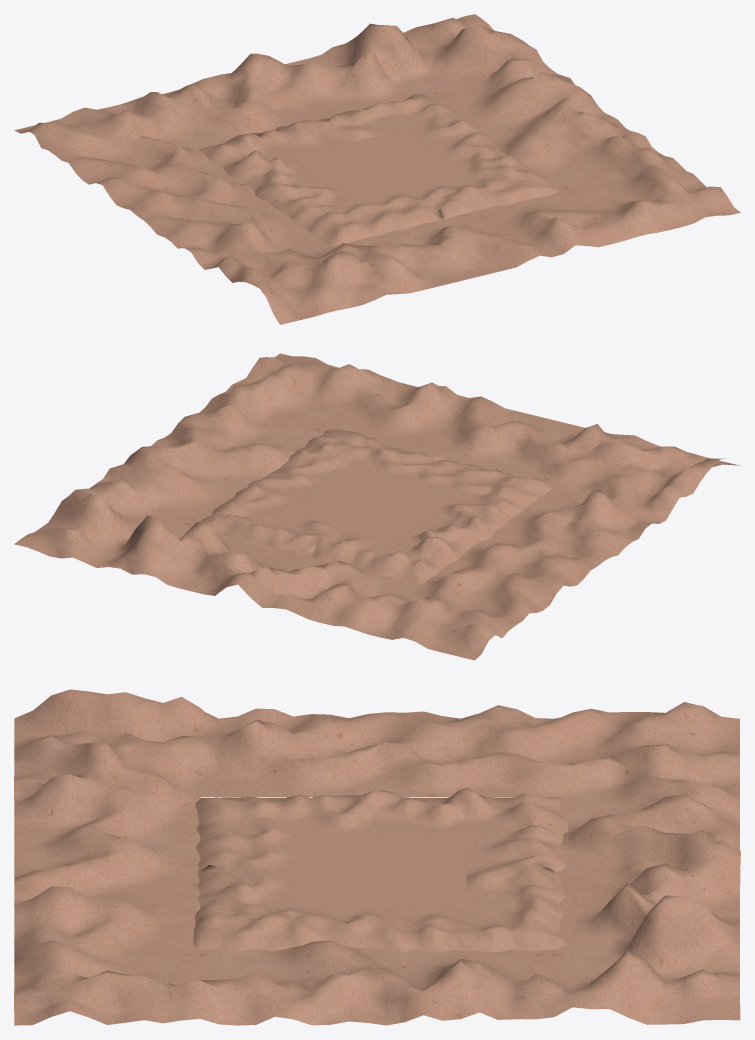
File: desert2.glb
3 views of the same model, one above another, from view 1: azimuth 30°, elevation 25°; view 2: azimuth 150°, elevation 25°; view 3: azimuth 270°, elevation 25° (orthographic). The views are drawn at different scales.
Visible parts, largest first — view 1: desert; view 2: desert; view 3: desert.
Part boxes in pixels (<box>): desert: <box>14,14,740,324</box>; desert: <box>14,353,739,660</box>; desert: <box>14,689,740,1025</box>.
Bounding box in the file's own units: 822 × 75.19 × 822.
1 material, 1 textured.
